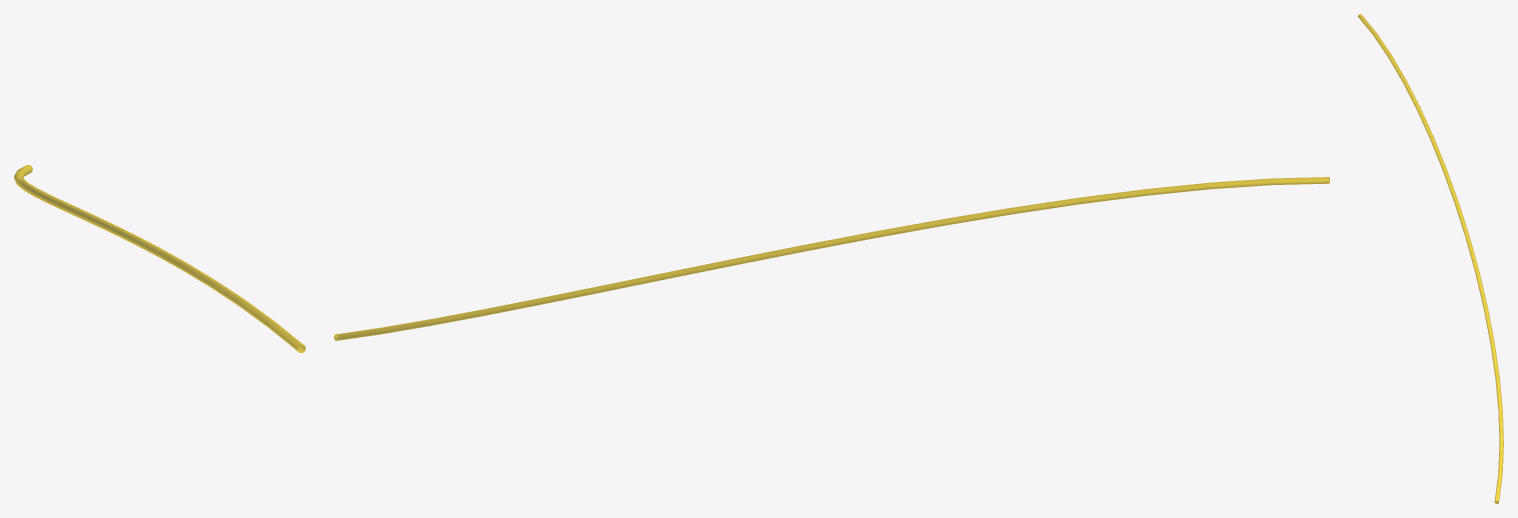
The model's file is Event_17758602_track_28.fbx.
3 views of the same model, side by side, from view 1: azimuth 90°, elevation 25°; view 2: azimuth 150°, elevation 25°; view 3: azimuth 270°, elevation 25° (orthographic). The views are drawn at different scales.
Parts seen in each view (by area): view 1: Model; view 2: Model; view 3: Model.
Part boxes in pixels (x1,y1,x2,y2): Model: (14,164,305,352); Model: (334,177,1329,340); Model: (1358,14,1503,503).
Size of the model in its own units: 6.09 by 1.99 by 1.3.
